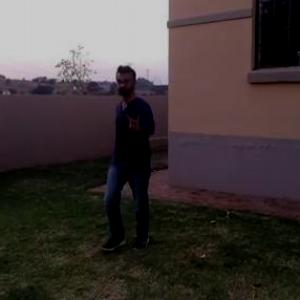takeoff-hand: (125, 109, 148, 134)
